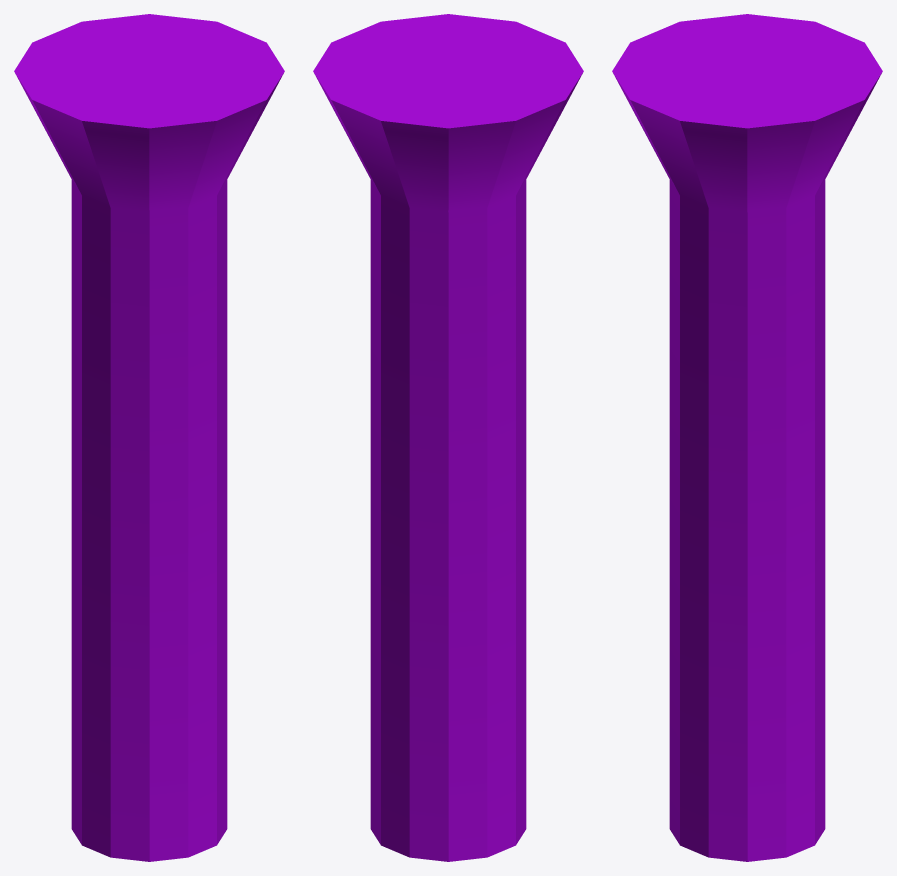
File: Star_Pillar.fbx
3 views of the same model, side by side, from view 1: azimuth 30°, elevation 25°; view 2: azimuth 150°, elevation 25°; view 3: azimuth 270°, elevation 25° (orthographic).
Parts seen in each view (by area): view 1: Star_Pillar; view 2: Star_Pillar; view 3: Star_Pillar.
Part boxes in pixels (x1,y1,x2,y2): Star_Pillar: (14, 14, 284, 861); Star_Pillar: (313, 14, 583, 861); Star_Pillar: (612, 14, 882, 861).
Bounding box in the file's own units: 5.25 × 16.21 × 5.25.
